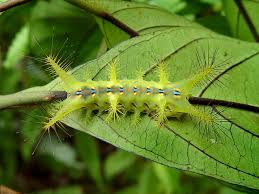Pest! (nettle_caterpillar): (37, 51, 211, 130)
